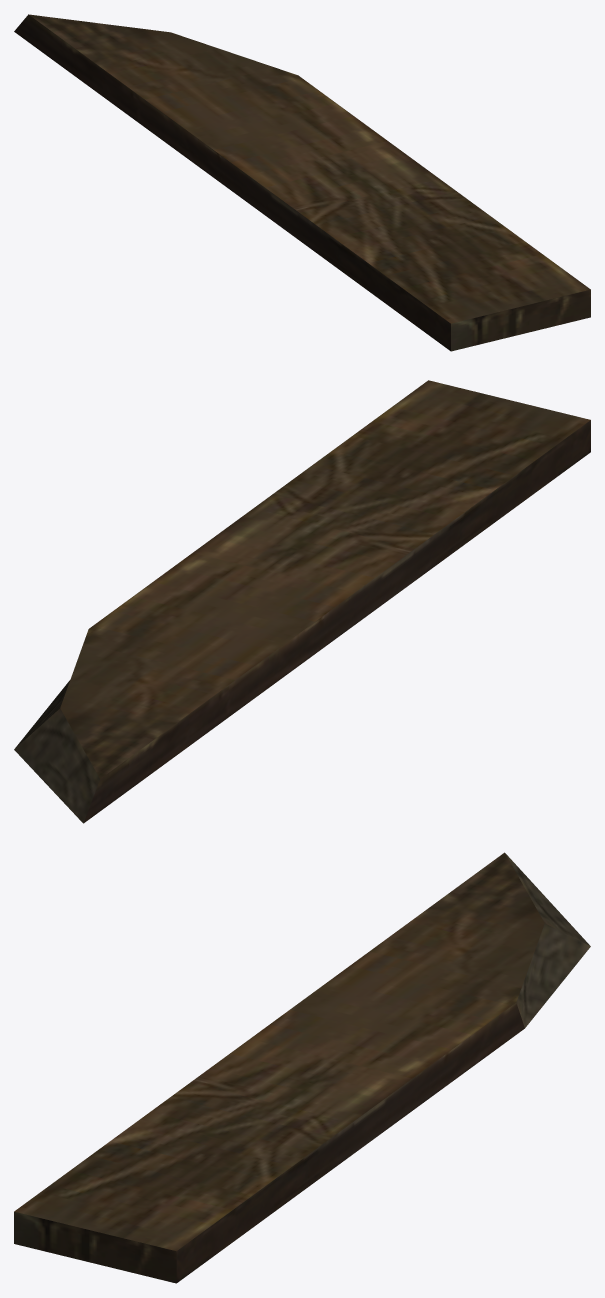
The model's file is Z_mutou005.fbx.
The picture shows the model from 3 angles, top to bottom: view 1: azimuth 30°, elevation 25°; view 2: azimuth 150°, elevation 25°; view 3: azimuth 330°, elevation 25°; orthographic projection. The views are drawn at different scales.
Parts seen in each view (by area): view 1: Z_mutou005; view 2: Z_mutou005; view 3: Z_mutou005.
Boxes of the visible parts, left/top/right/bottom form: Z_mutou005: left=14, top=14, right=590, bottom=351; Z_mutou005: left=14, top=380, right=590, bottom=823; Z_mutou005: left=14, top=852, right=590, bottom=1283.
Size of the model in its own units: 72.95 by 13.85 by 394.
